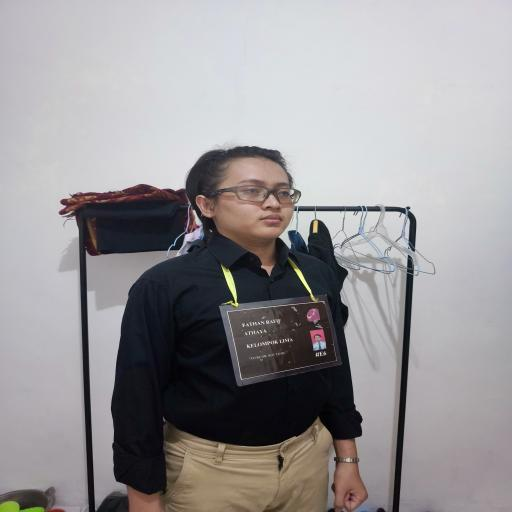celana_salah: (158, 427, 338, 512)
kemeja_salah: (111, 246, 372, 444)
nametag_ada: (206, 275, 357, 388)
